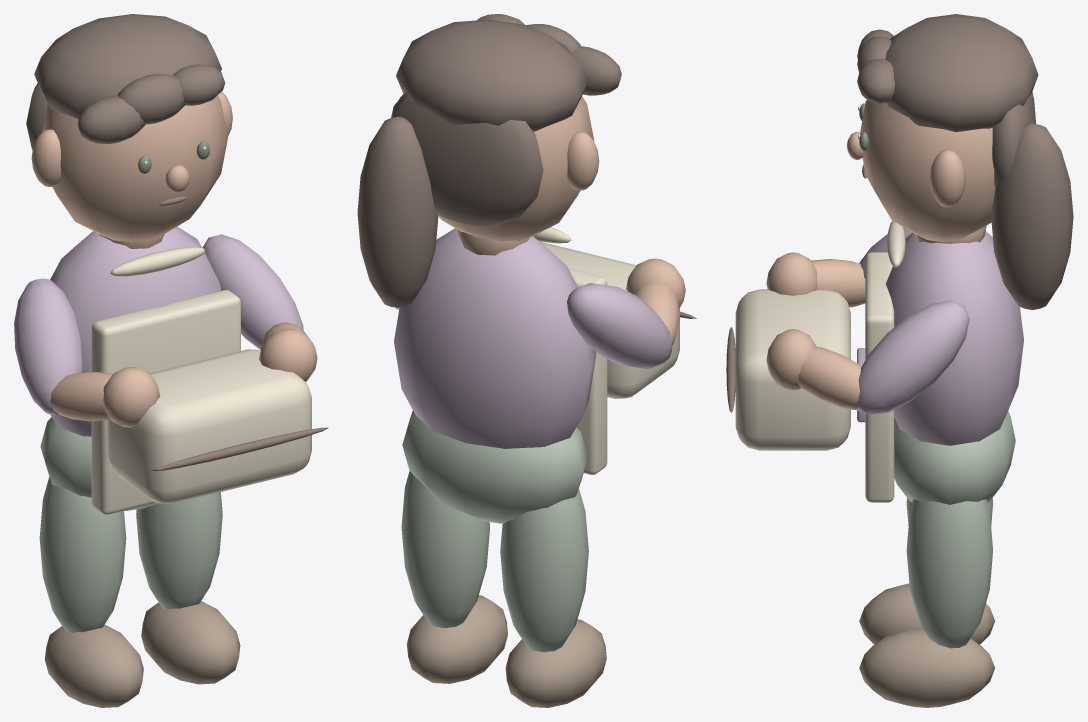
Rendered from alexis-carry.glb.
3 views of the same model, side by side, from view 1: azimuth 30°, elevation 25°; view 2: azimuth 150°, elevation 25°; view 3: azimuth 270°, elevation 25° (orthographic). The views are drawn at different scales.
Parts seen in each view (by area): view 1: Supply parcel.005, Head.016, Apron.004, Hair crown.016, Padded shirt.016, Trouser leg.032, Trouser leg.033, Shirt sleeve.032, Rounded boot.033, Rounded boot.032, Shirt sleeve.033, Soft trouser seat.016 (+11 smaller); view 2: Padded shirt.016, Hair crown.016, Soft trouser seat.016, Hair back.016, Ponytail.001, Trouser leg.032, Trouser leg.033, Shirt sleeve.032, Rounded boot.033, Rounded boot.032, Head.016, Supply parcel.005 (+7 smaller); view 3: Padded shirt.016, Hair crown.016, Supply parcel.005, Head.016, Ponytail.001, Trouser leg.033, Shirt sleeve.033, Rounded boot.033, Soft trouser seat.016, Apron.004, Forearm.033, Rounded boot.032 (+9 smaller).
Part boxes in pixels (x1,y1,x2,y2): Supply parcel.005: [107, 349, 311, 503]; Head.016: [42, 95, 228, 241]; Apron.004: [91, 290, 240, 514]; Hair crown.016: [34, 14, 221, 119]; Padded shirt.016: [50, 226, 221, 436]; Trouser leg.032: [39, 477, 126, 632]; Trouser leg.033: [136, 492, 222, 609]; Shirt sleeve.032: [14, 278, 83, 414]; Rounded boot.033: [141, 601, 240, 684]; Rounded boot.032: [44, 624, 143, 707]; Shirt sleeve.033: [202, 234, 303, 349]; Soft trouser seat.016: [40, 417, 158, 511]; Padded shirt.016: [394, 228, 596, 448]; Hair crown.016: [396, 19, 587, 131]; Soft trouser seat.016: [402, 410, 587, 523]; Hair back.016: [391, 92, 543, 226]; Ponytail.001: [357, 116, 438, 307]; Trouser leg.032: [500, 488, 588, 652]; Trouser leg.033: [401, 471, 489, 628]; Shirt sleeve.032: [567, 283, 671, 369]; Rounded boot.033: [407, 595, 507, 683]; Rounded boot.032: [505, 619, 606, 707]; Head.016: [438, 96, 594, 241]; Supply parcel.005: [540, 241, 679, 398]; Padded shirt.016: [885, 231, 1023, 445]; Hair crown.016: [885, 14, 1038, 132]; Supply parcel.005: [735, 289, 850, 450]; Head.016: [860, 100, 995, 241]; Ponytail.001: [991, 123, 1073, 310]; Trouser leg.033: [906, 499, 992, 648]; Shirt sleeve.033: [856, 300, 969, 415]; Rounded boot.033: [859, 628, 994, 707]; Soft trouser seat.016: [894, 411, 1015, 504]; Apron.004: [865, 252, 894, 502]; Forearm.033: [798, 346, 861, 410]; Rounded boot.032: [859, 583, 994, 644].
Bounding box in the file's own units: 0.7508 × 1.74 × 0.842.
